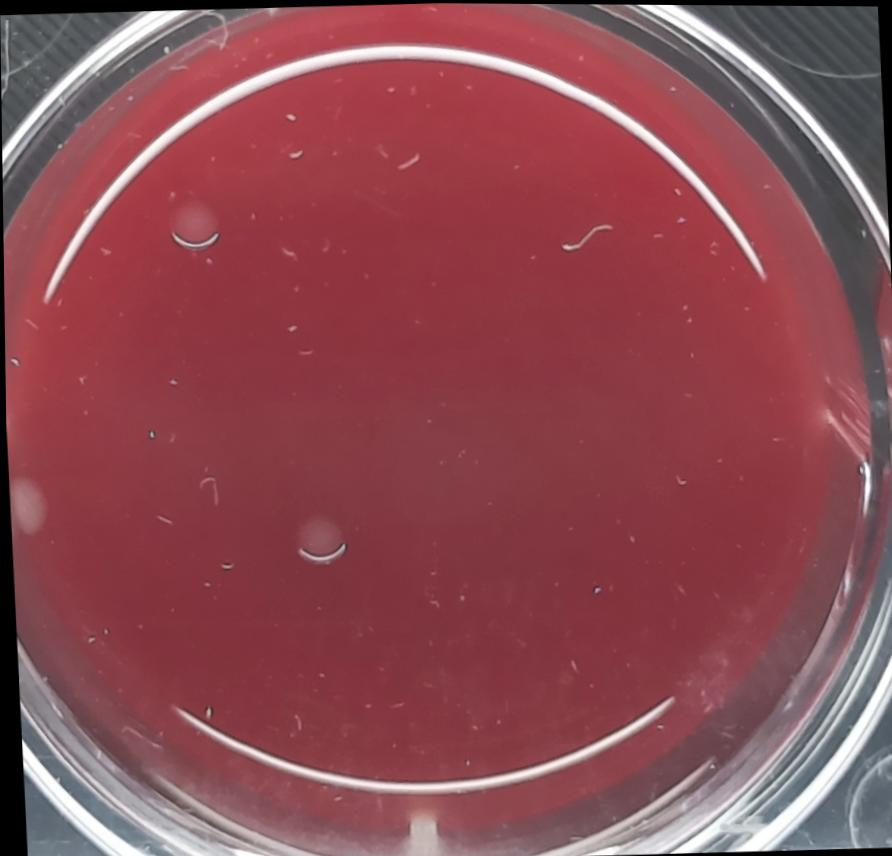vharveyi: (156, 186, 237, 268), (291, 508, 355, 577)
